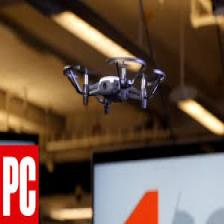drone: (63, 62, 160, 110)
